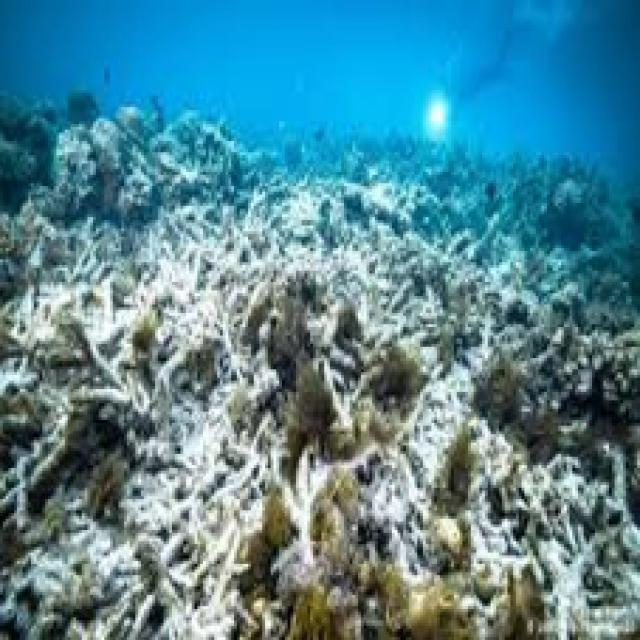Bleached: (122, 374, 282, 640), (1, 232, 249, 390), (176, 199, 422, 312), (372, 368, 485, 568), (1, 490, 142, 640), (349, 245, 540, 354), (539, 474, 640, 640)
